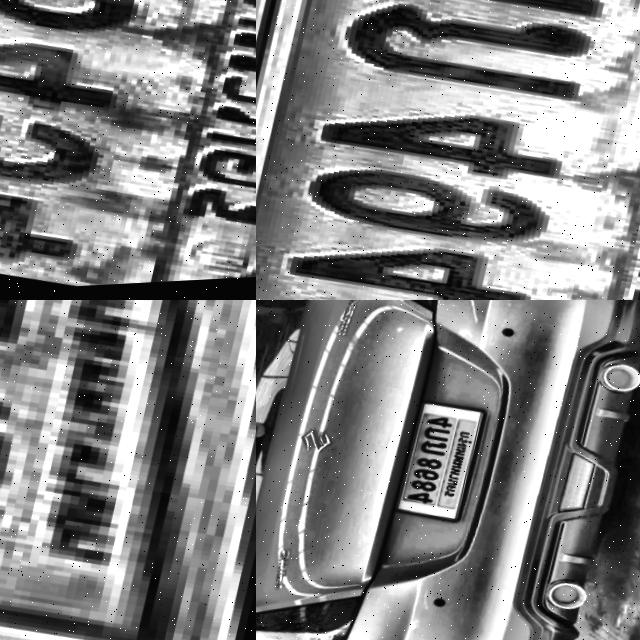license-plate: (256, 0, 640, 300), (0, 300, 256, 640), (0, 0, 256, 300), (392, 398, 489, 530)
